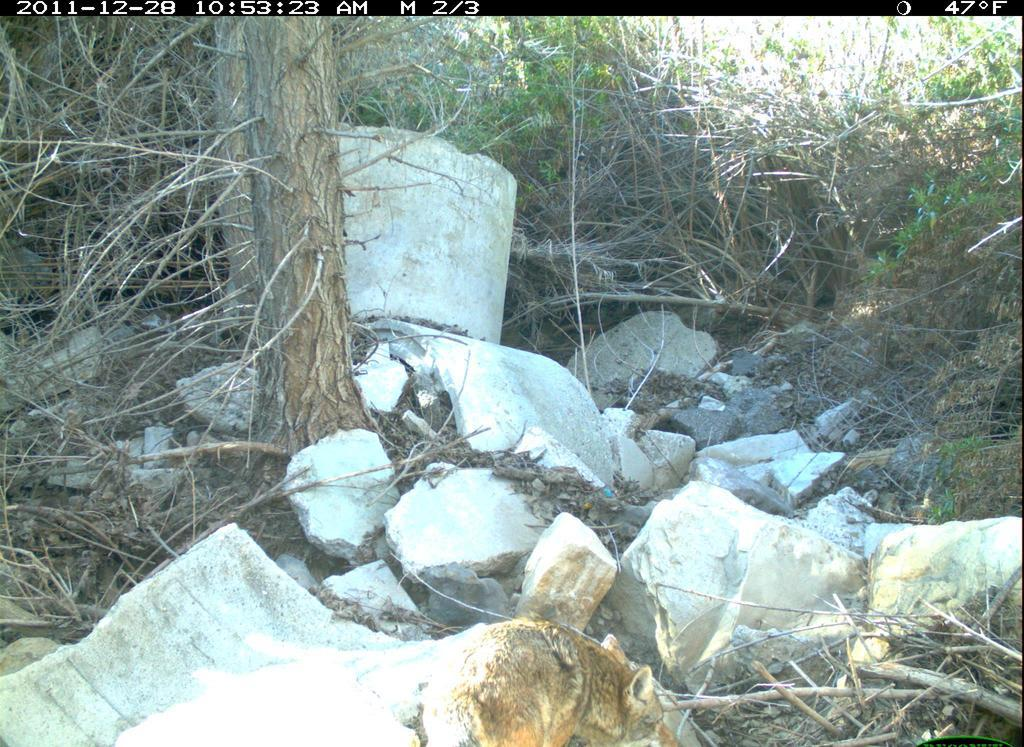coyote: (447, 589, 684, 742)
